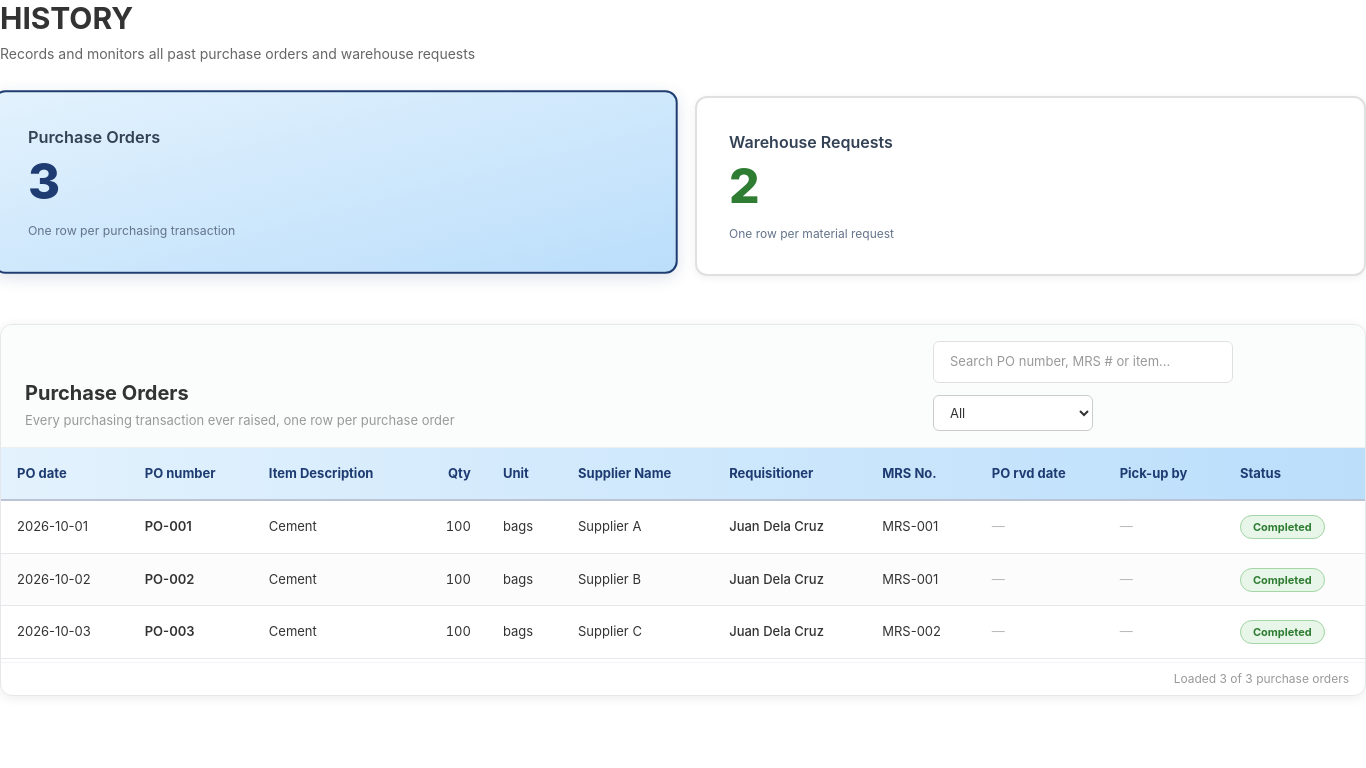
it: history rows are read-only › still lets a rejected request show its remarks
Click the text "Warehouse Requests": (811, 142) [729,132,893,152]
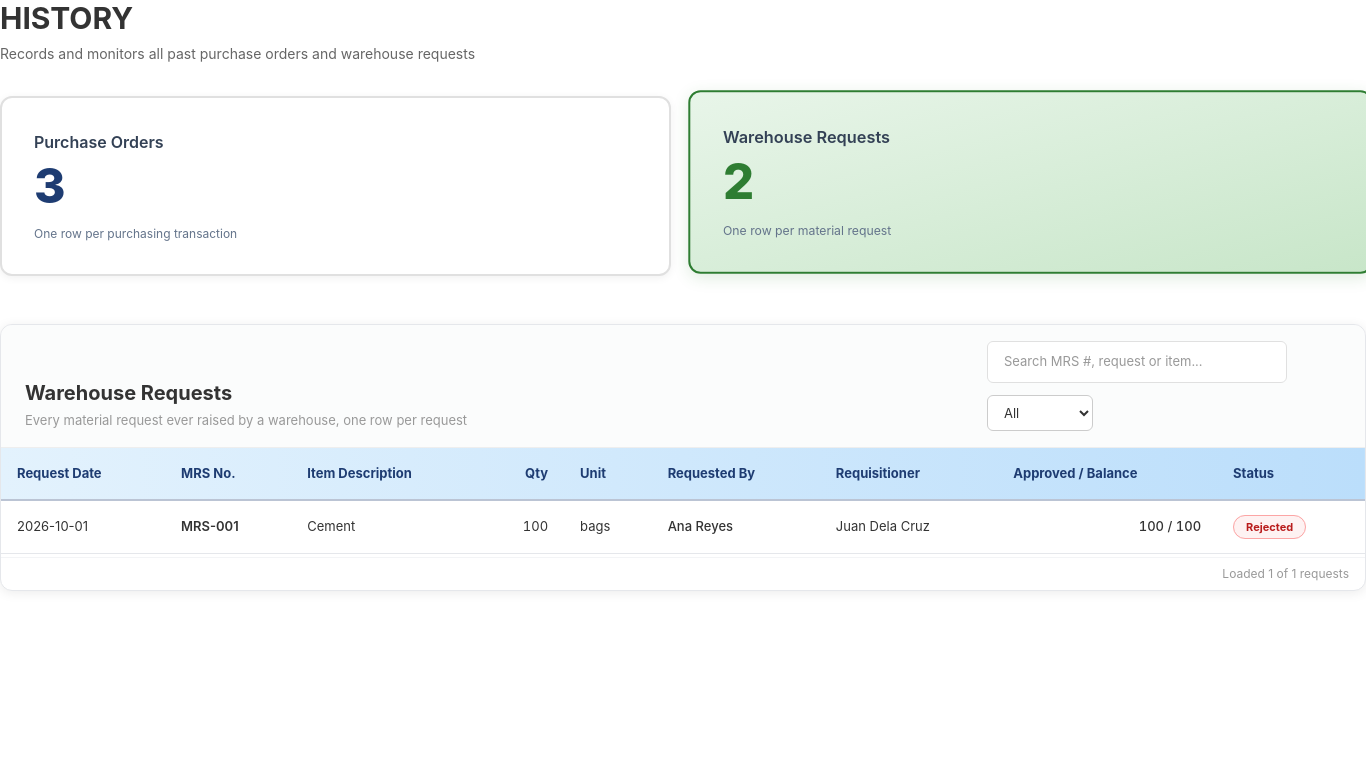
Click the row named "View the rejection remarks": (683, 526) [1,500,1365,553]
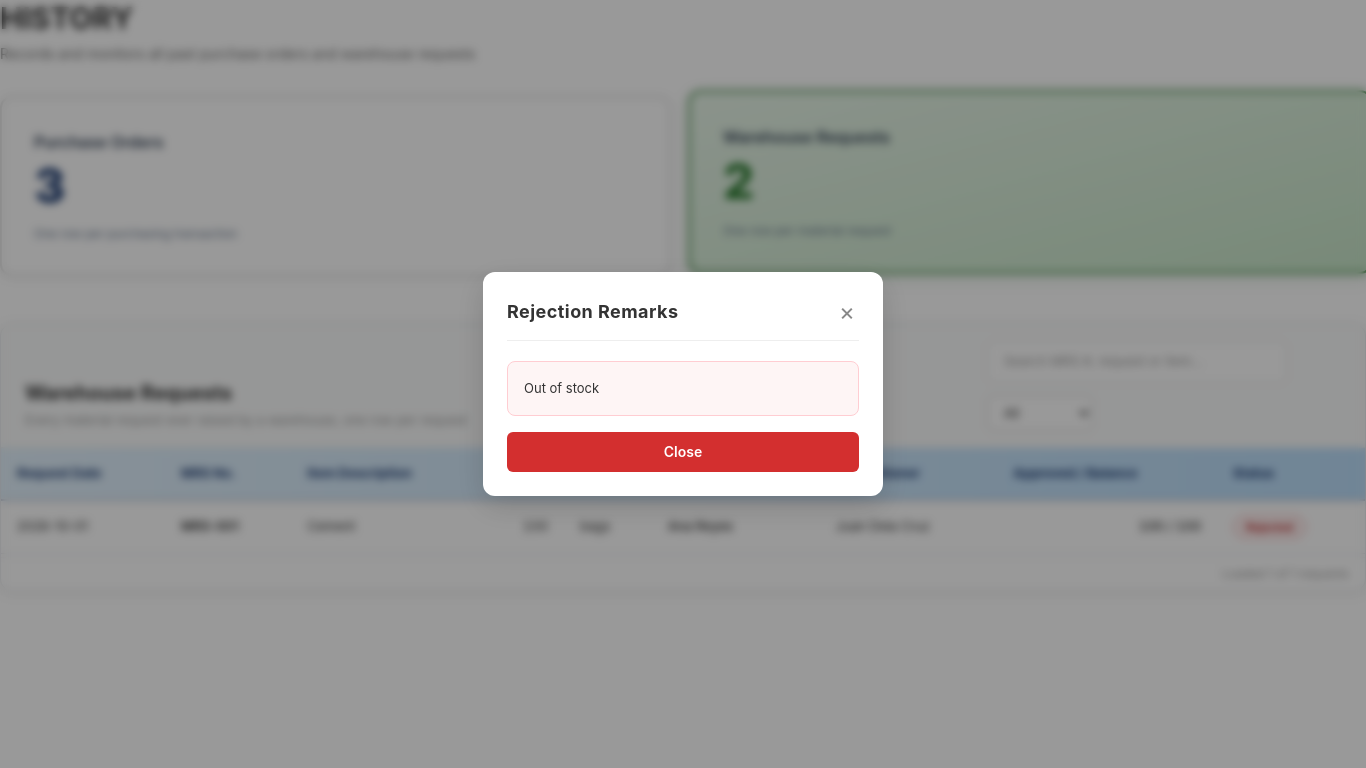
Now the text "Out of stock" is shown, box [524,380,599,396]
